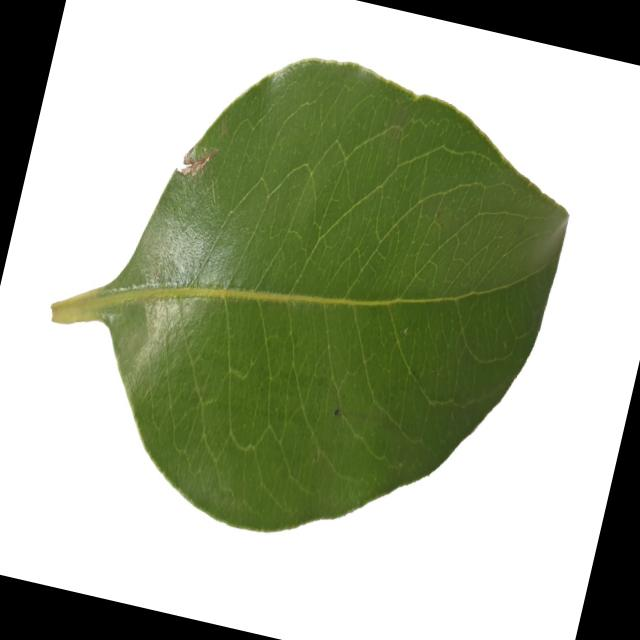Medicinal-Sandalwood: (14, 5, 592, 584)
